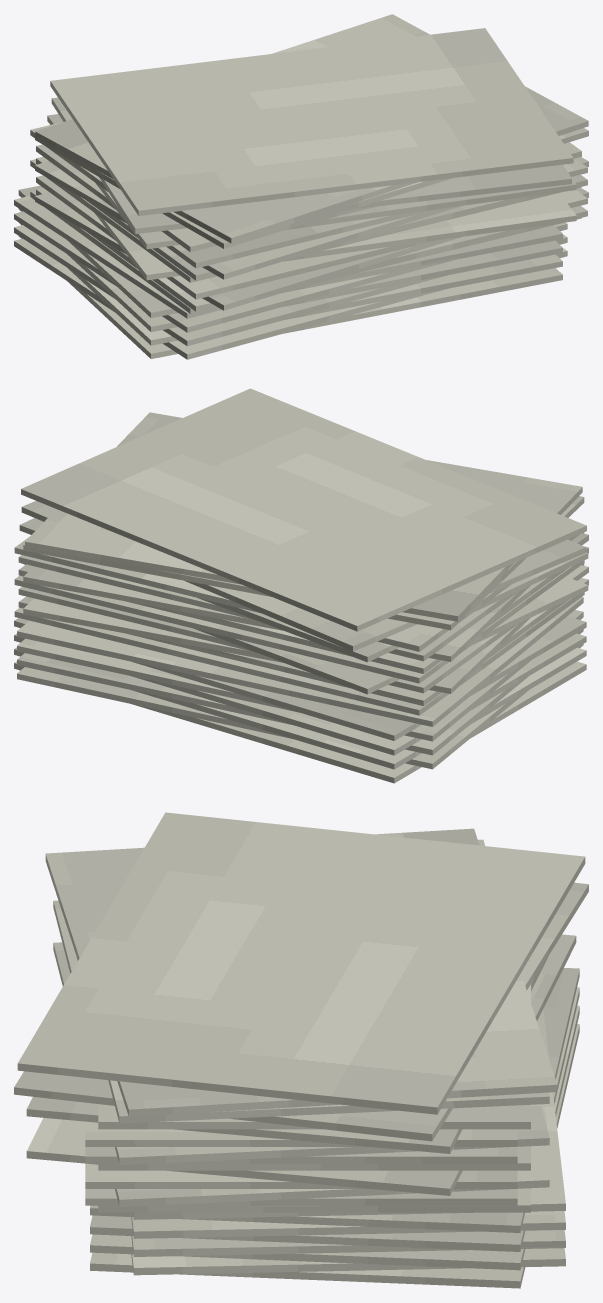
File: Paper3.fbx
3 renders of one model, top to bottom at view 1: azimuth 30°, elevation 25°; view 2: azimuth 150°, elevation 25°; view 3: azimuth 270°, elevation 25°, orthographic. The views are drawn at different scales.
Visible parts, largest first — view 1: paper3; view 2: paper3; view 3: paper3.
Part boxes in pixels (x1,y1,x2,y2): paper3: (14,14,588,359); paper3: (14,388,588,783); paper3: (14,812,588,1288).
Size of the model in its own units: 230 by 71.12 by 188.
1 material, 1 textured.
